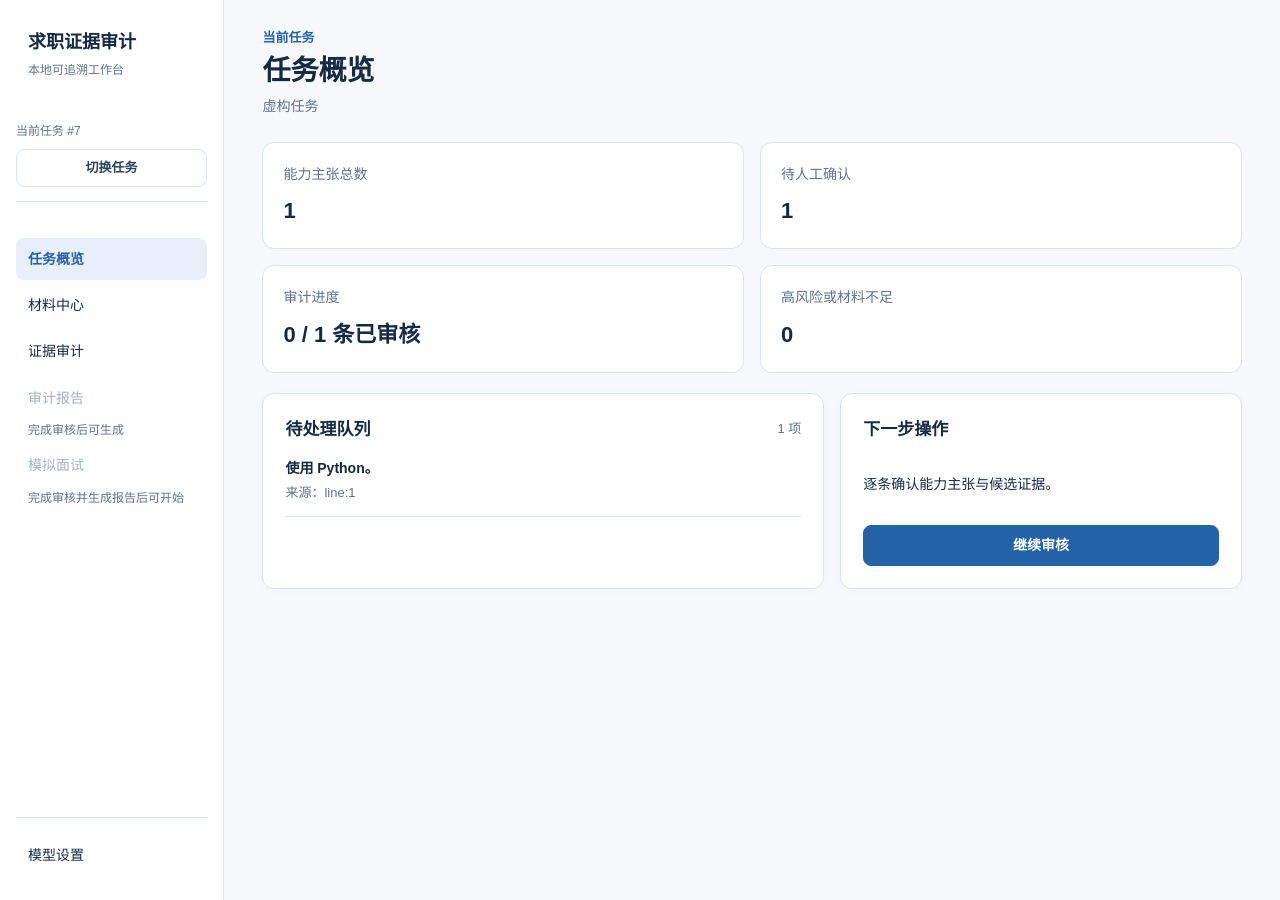
Test case: 工作台已有主张时引导继续审核，不发送提取请求
The width and height of the screenshot is (1280, 900).
expect the heading "任务概览" is shown: met, box [262,55,374,86]
Click the button "材料中心". click: (112, 305)
box: [16,284,207,326]
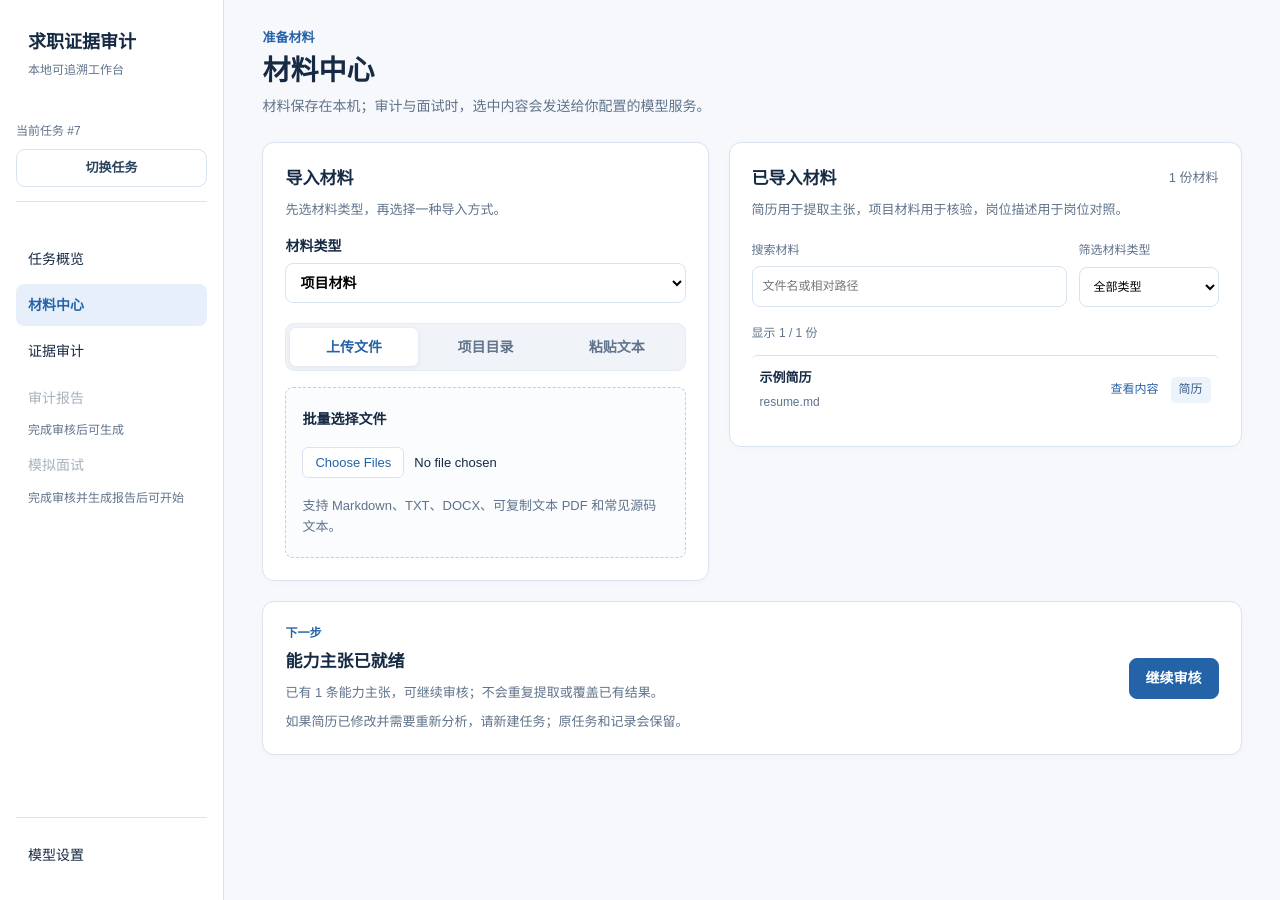
expect the text "已有 1 条能力主张，可继续审核；不会重复提取或覆盖已有结果。" is shown: met, box [285,683,688,704]
expect the text "如果简历已修改并需要重新分析，请新建任务；原任务和记录会保留。" is shown: met, box [285,712,688,732]
Click the button "继续审核". click: (1174, 678)
box: [1129,658,1219,699]
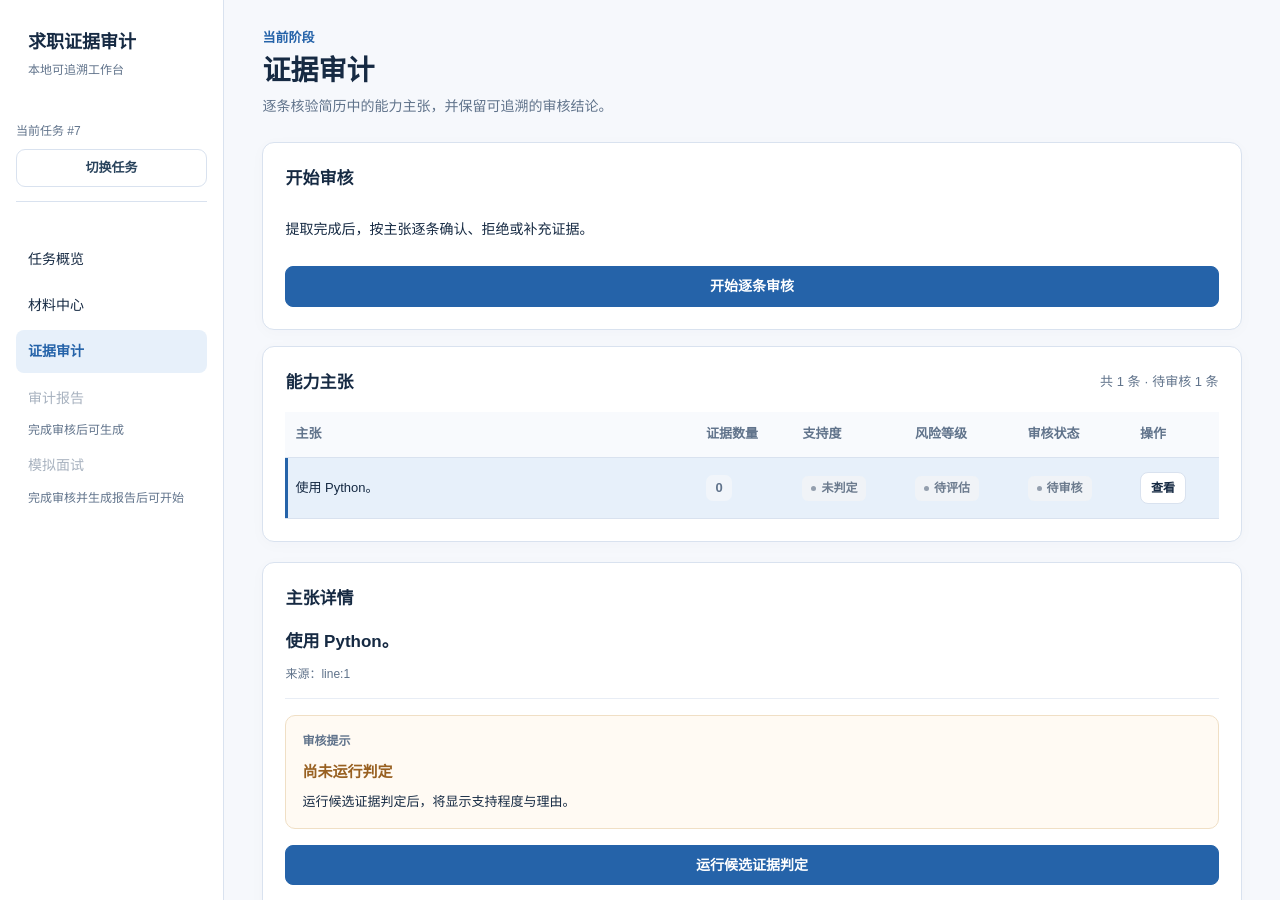
expect the heading "证据审计" is shown: met, box [262,55,374,86]
